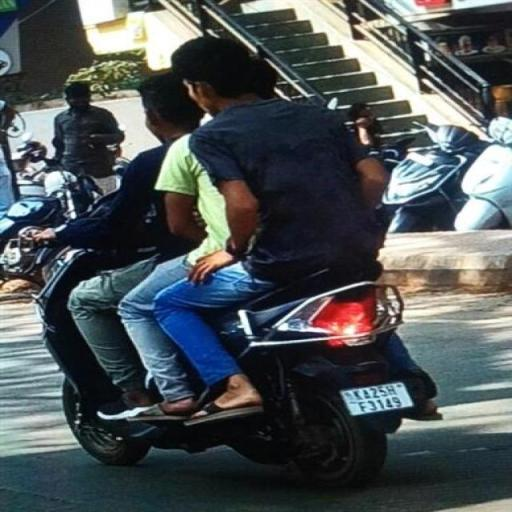tripple riding: (72, 28, 399, 286)
